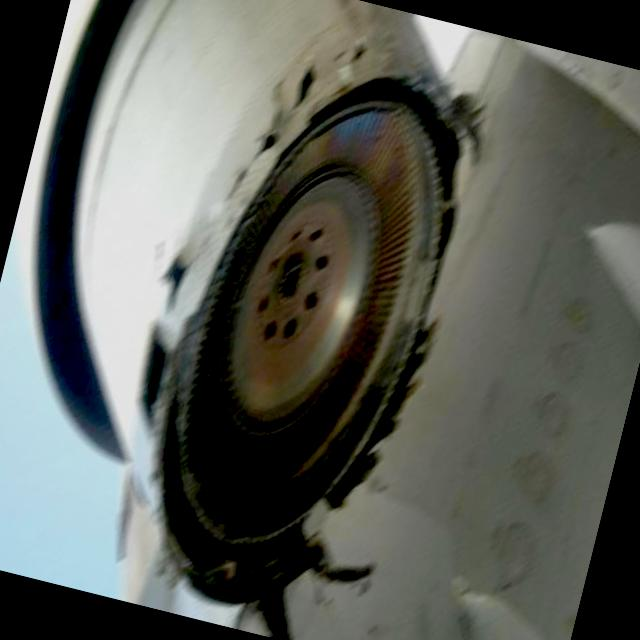crack: (150, 3, 368, 344), (311, 74, 457, 505), (171, 509, 371, 640)
